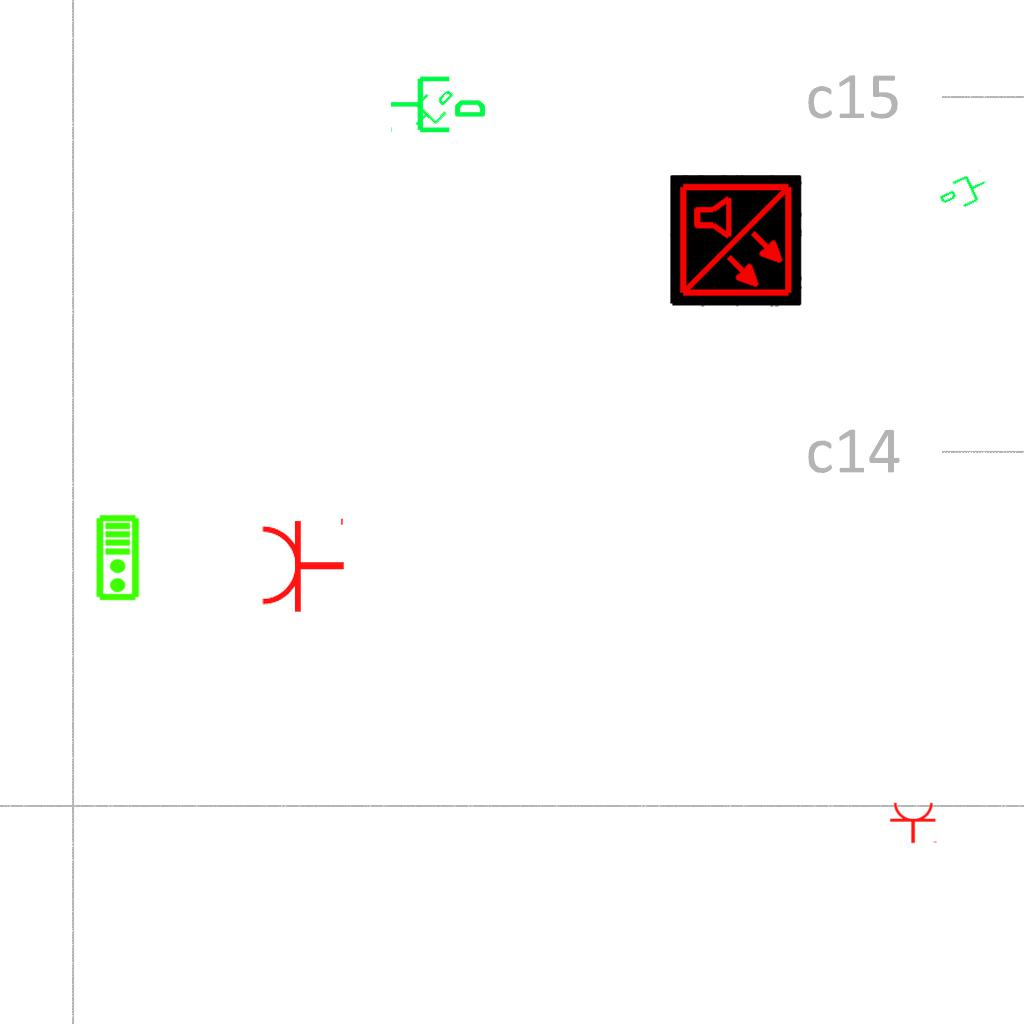Datenanschluss_einfach: (388, 68, 488, 137), (402, 77, 462, 137), (934, 167, 994, 219)
Gegensprechanlage_mit_Video: (95, 514, 142, 602)
OKW_Multisensormelder_(Kombination_optischer_Rauch-Kahlenmonoxid_Waerme-Melder): (670, 175, 802, 307)
Schukosteckdose_einfach: (259, 514, 346, 614), (889, 801, 939, 844)
